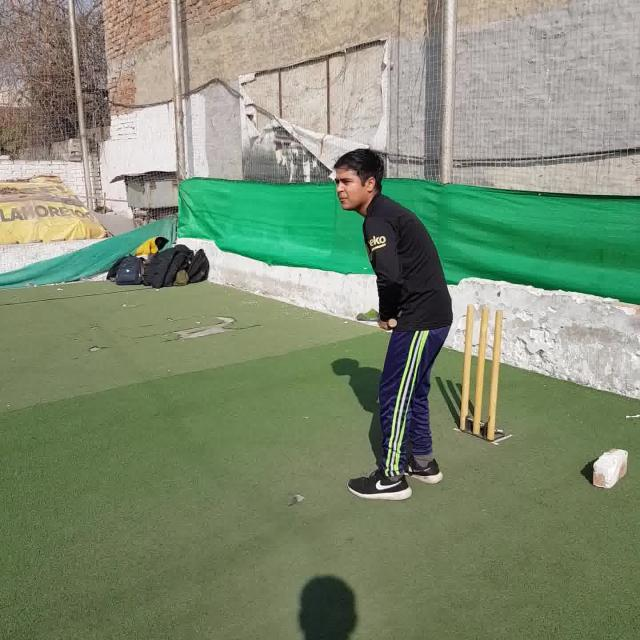bat: (356, 309, 396, 330)
